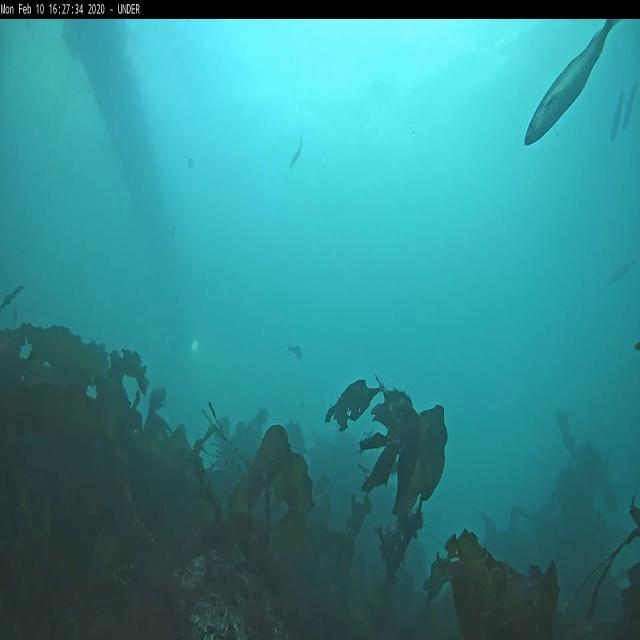fish: (523, 18, 621, 148), (608, 253, 638, 286), (620, 82, 638, 134), (610, 90, 624, 144), (290, 134, 302, 169), (286, 341, 302, 358)
